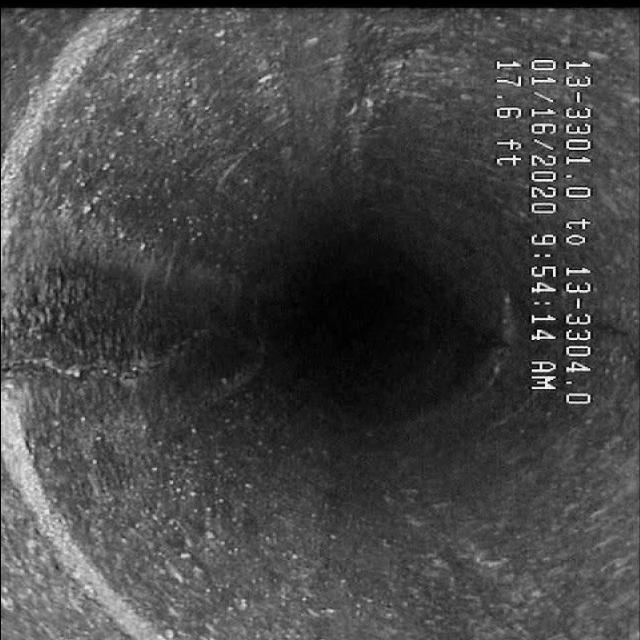Crack: (2, 296, 232, 426)
